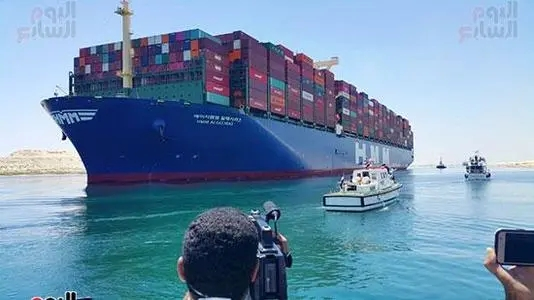Cargoship: (38, 21, 418, 192)
otherboat: (320, 155, 403, 214), (456, 149, 497, 185), (436, 156, 449, 169)
